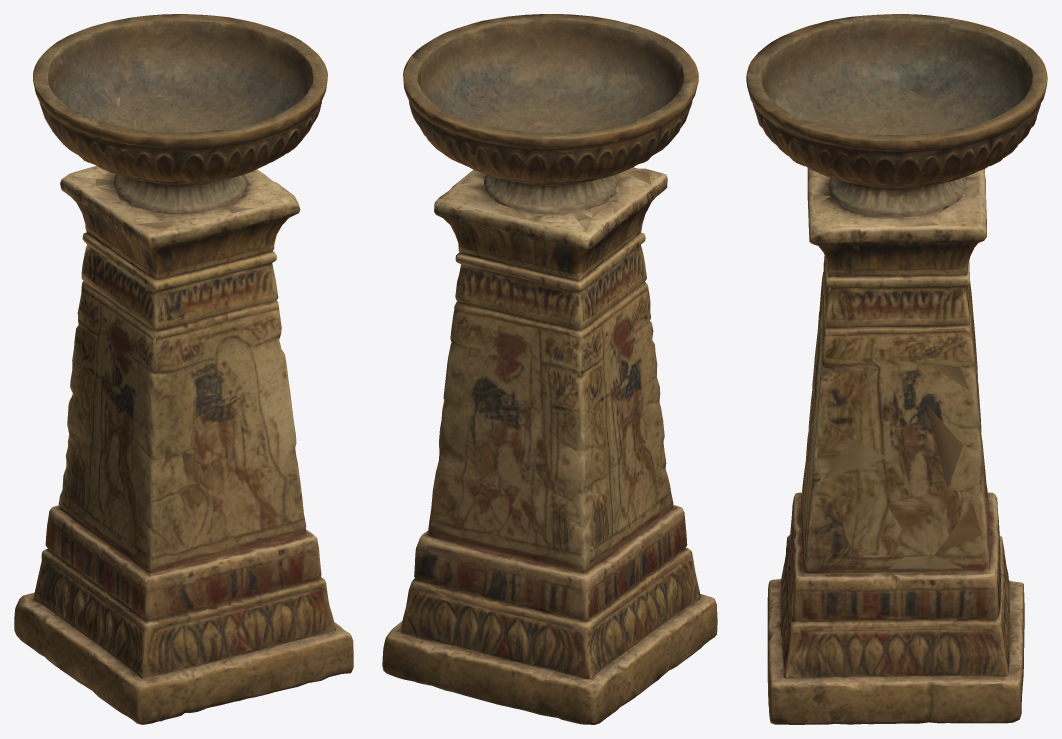
File: fire_pillar.glb
3 renders of one model, left to right at view 1: azimuth 30°, elevation 25°; view 2: azimuth 150°, elevation 25°; view 3: azimuth 270°, elevation 25°, orthographic. The views are drawn at different scales.
Visible parts, largest first — view 1: prop; view 2: prop; view 3: prop.
Part boxes in pixels (<box>): prop: <box>14,14,353,724</box>; prop: <box>382,14,717,724</box>; prop: <box>746,14,1047,724</box>.
Size of the model in its own units: 0.8278 by 1.8 by 0.8275.
1 material, 1 textured.
